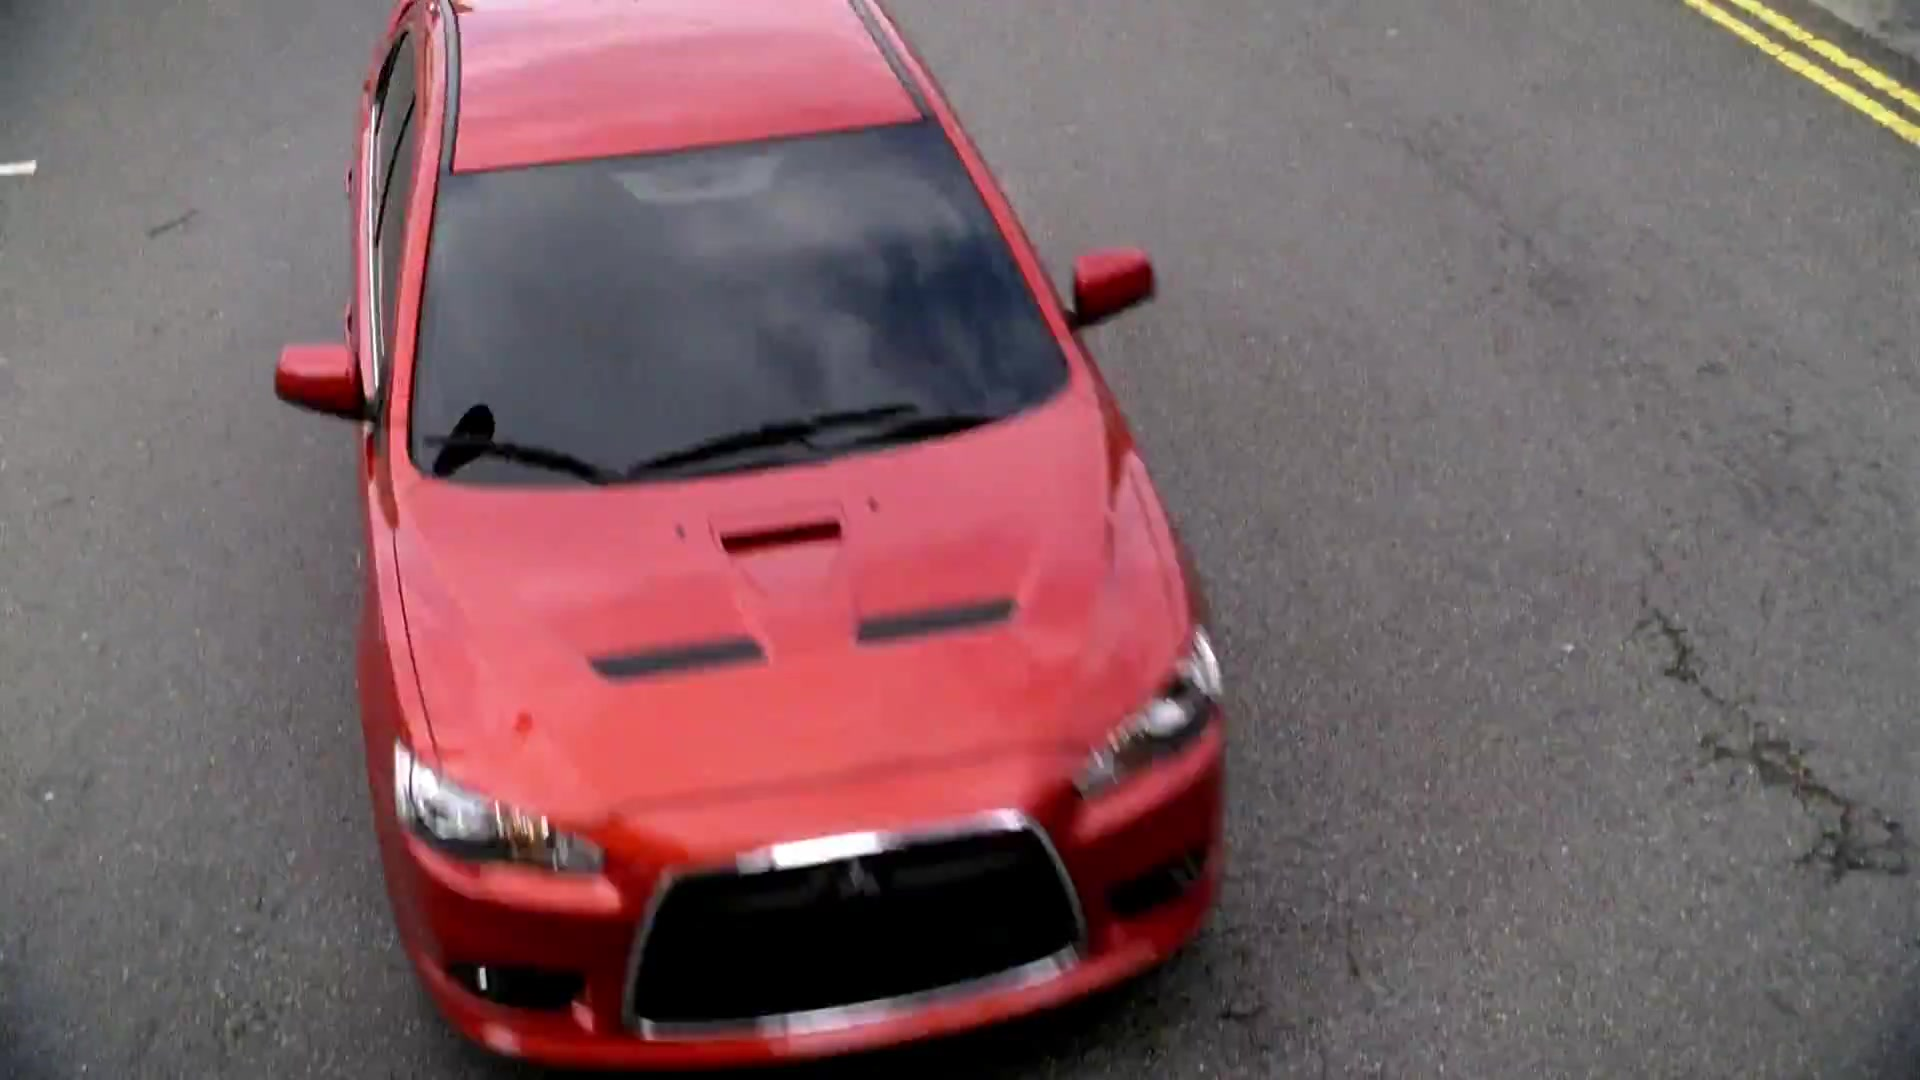car: (270, 5, 1238, 1080)
